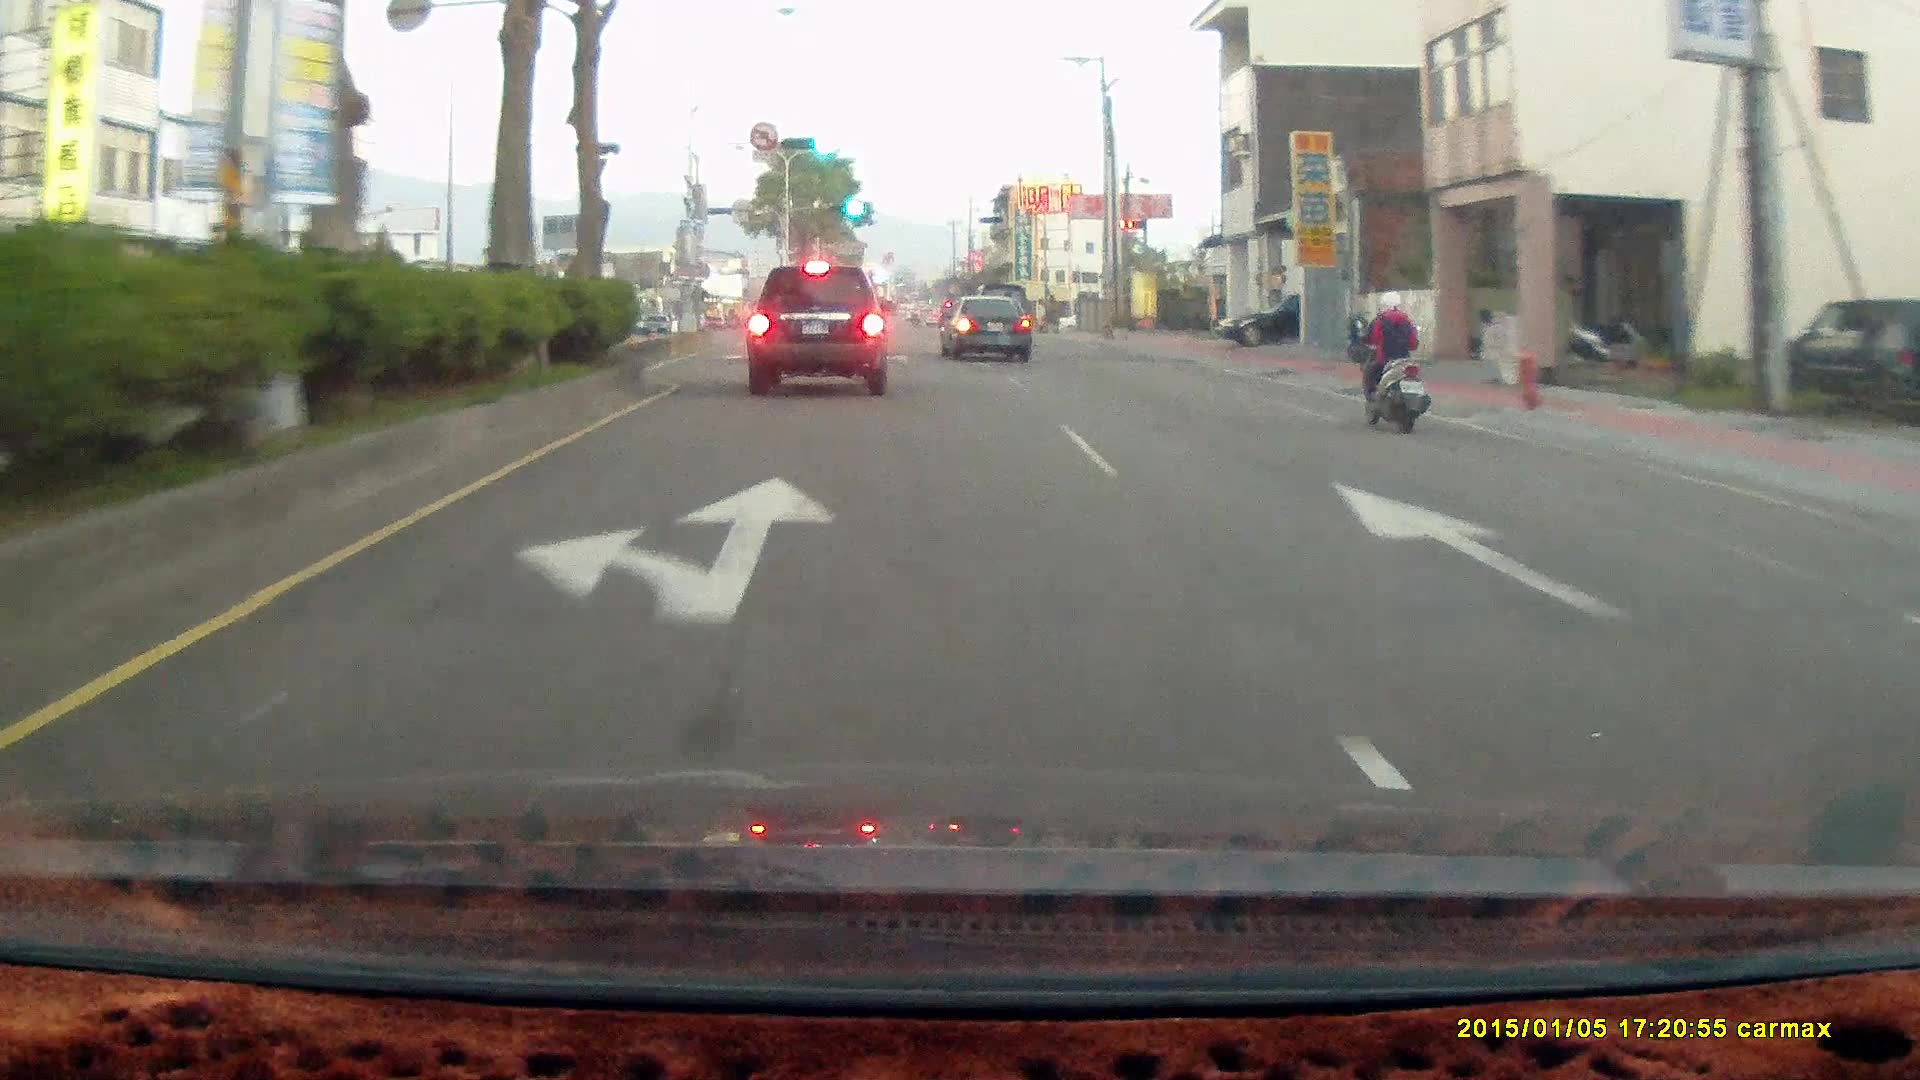rider: (1340, 276, 1445, 446), (1355, 289, 1430, 438)
vehicle: (742, 260, 891, 397), (746, 265, 895, 395), (1783, 297, 1920, 418), (1791, 294, 1920, 414), (1213, 289, 1375, 346), (944, 294, 1036, 361), (938, 291, 1030, 357), (1214, 292, 1305, 350)
